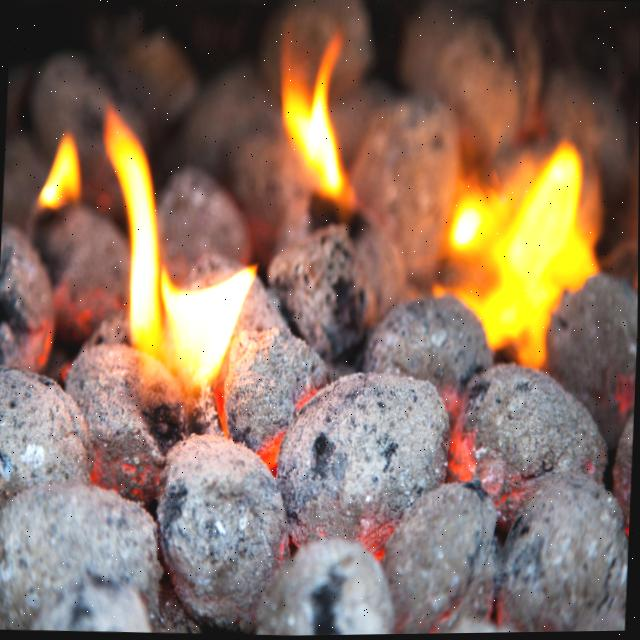fire: (104, 106, 255, 392), (445, 145, 597, 369), (281, 33, 356, 219), (37, 134, 80, 207)
